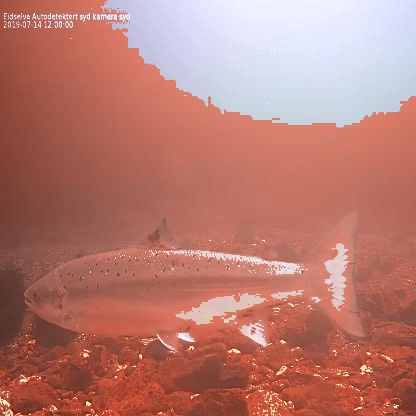salmon: (23, 208, 366, 354)
